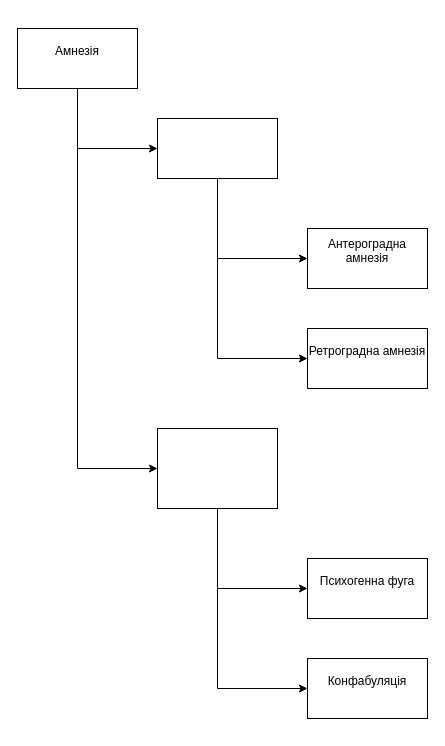
This 445x746 diagram has some shape labels left out. Here are the shapes that lost their labels. From the top down, the box of each, then its label:
(156, 118, 278, 178): Органічна (фізичне ушкодження мозку)
(156, 428, 278, 508): Психогенна (психологічні причини, без ушкодження мозку)
